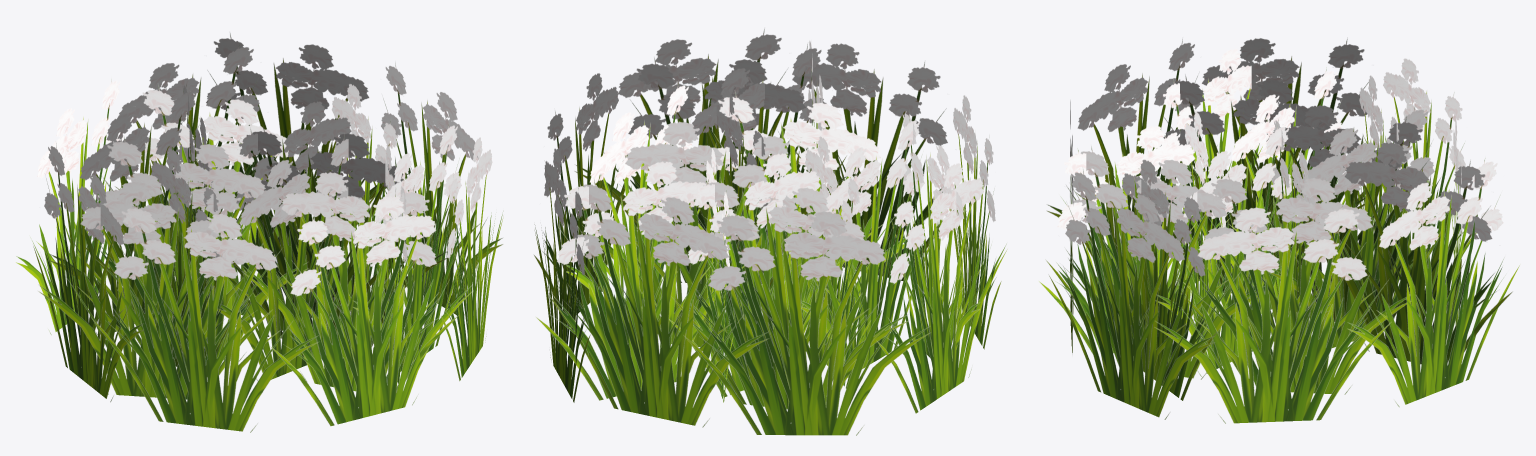
Rendered from flowers.glb.
3 renders of one model, left to right at view 1: azimuth 30°, elevation 25°; view 2: azimuth 150°, elevation 25°; view 3: azimuth 270°, elevation 25°, orthographic. The views are drawn at different scales.
Parts seen in each view (by area): view 1: Grass; view 2: Grass; view 3: Grass.
Boxes of the visible parts, box(x1,y1,x2,y2) form: Grass: box(15, 33, 503, 432); Grass: box(534, 28, 1007, 435); Grass: box(1038, 38, 1520, 423).
Bounding box in the file's own units: 4.14 × 2 × 4.03.
1 material, 1 textured.
